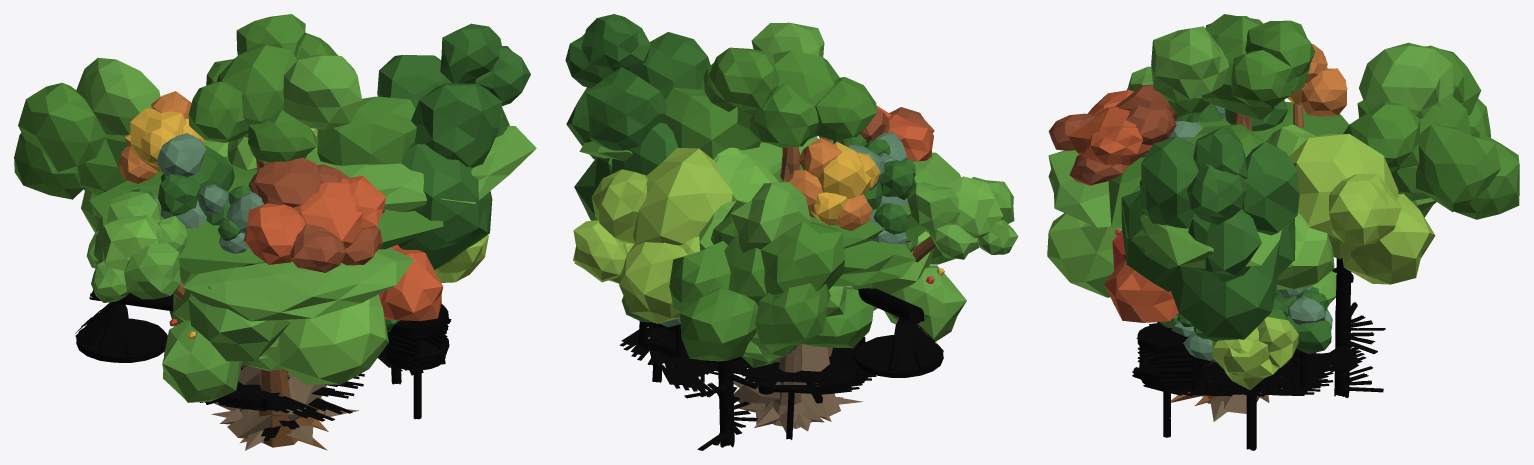
Rendered from CasaDelArbol_2_Prueba.fbx.
The picture shows the model from 3 angles, left to right: view 1: azimuth 30°, elevation 25°; view 2: azimuth 150°, elevation 25°; view 3: azimuth 270°, elevation 25°; orthographic projection. The views are drawn at different scales.
Visible parts, largest first — view 1: Circle.001; view 2: Circle.001; view 3: Circle.001.
Part boxes in pixels (left/top/right/bottom): Circle.001: left=14, top=14, right=536, bottom=450; Circle.001: left=565, top=14, right=1018, bottom=450; Circle.001: left=1047, top=14, right=1519, bottom=450.
Bounding box in the file's own units: 7490 × 6264 × 6973.
